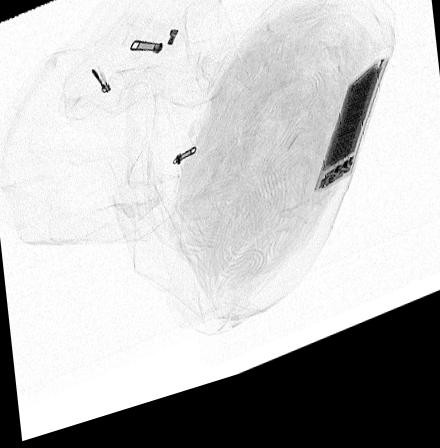Powerbank: (313, 79, 389, 214)
